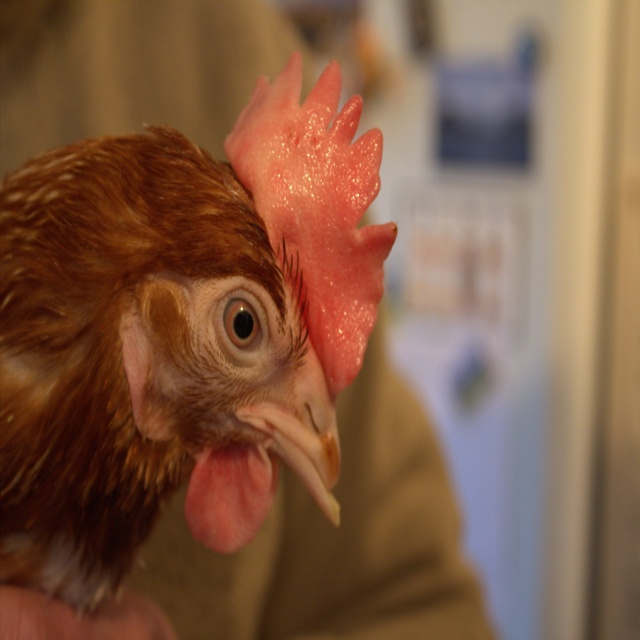Chicken: (0, 42, 399, 620)
